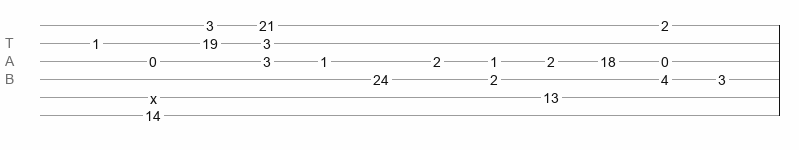0: (149, 54, 157, 64), (661, 54, 669, 64)
1: (92, 36, 100, 46), (320, 54, 328, 64), (490, 54, 498, 64)
13: (543, 90, 559, 100)
14: (145, 108, 161, 118)
18: (600, 54, 616, 64)
19: (202, 36, 218, 46)
2: (433, 54, 441, 64), (490, 72, 498, 82), (547, 54, 555, 64), (661, 18, 669, 28)
21: (259, 18, 275, 28)
24: (373, 72, 389, 82)
3: (206, 18, 214, 28), (263, 54, 271, 64), (263, 36, 271, 46), (718, 72, 726, 82)
4: (661, 72, 669, 82)
x: (150, 91, 157, 99)
